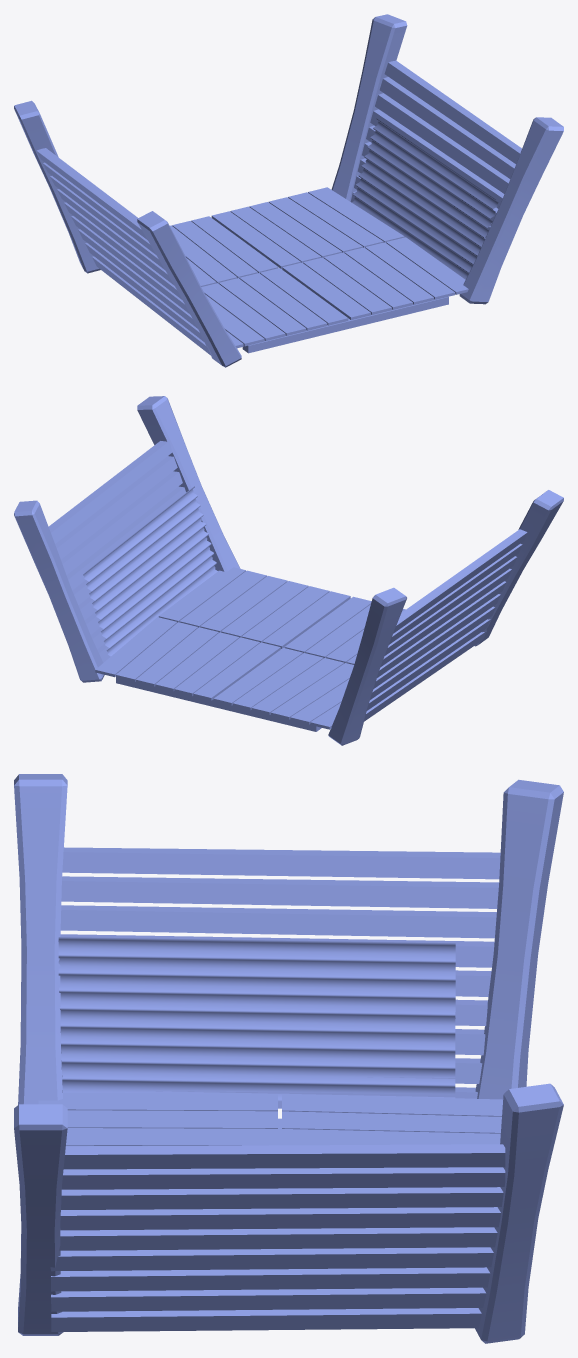
Rendered from TrenchWideV2.fbx.
The picture shows the model from 3 angles, top to bottom: view 1: azimuth 30°, elevation 25°; view 2: azimuth 150°, elevation 25°; view 3: azimuth 270°, elevation 25°; orthographic projection. The views are drawn at different scales.
Visible parts, largest first — view 1: TrenchWide.001; view 2: TrenchWide.001; view 3: TrenchWide.001.
Part boxes in pixels (bbox=[...]): TrenchWide.001: bbox=[14, 14, 563, 367]; TrenchWide.001: bbox=[14, 396, 563, 745]; TrenchWide.001: bbox=[14, 774, 563, 1343].
Bounding box in the file's own units: 567 × 220 × 376.
